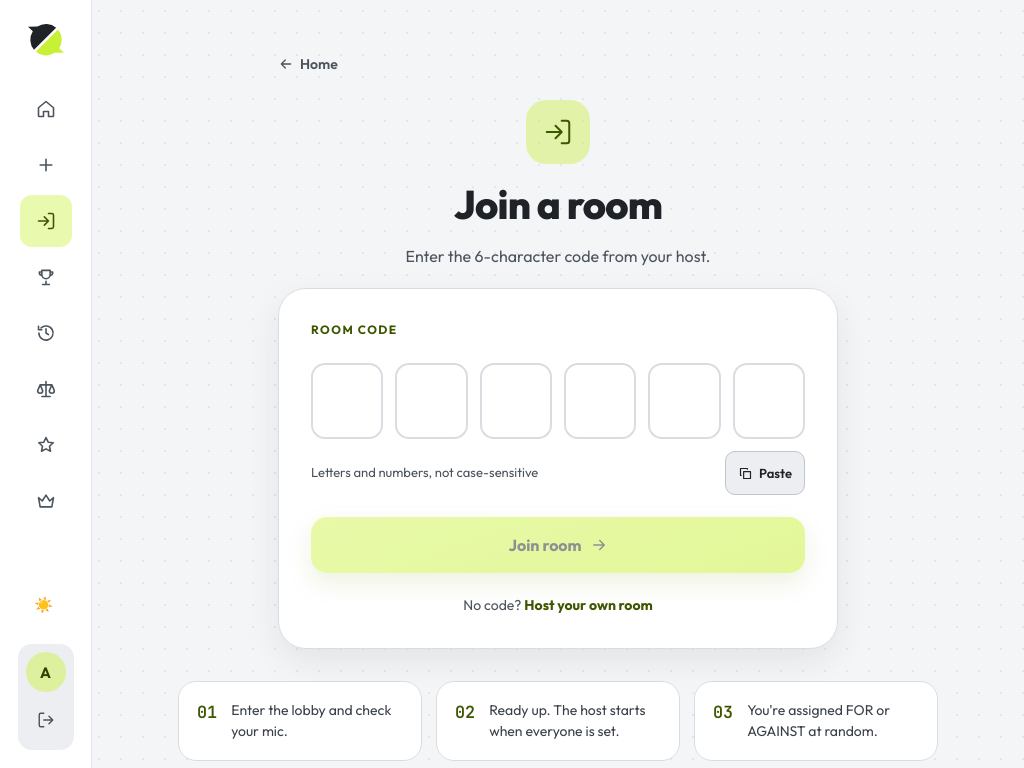
Test case: JoinRoom › step 1 — code entry › Paste button reads the clipboard into the code
Click the button "Paste" at [765, 473], box [725, 451, 805, 495]
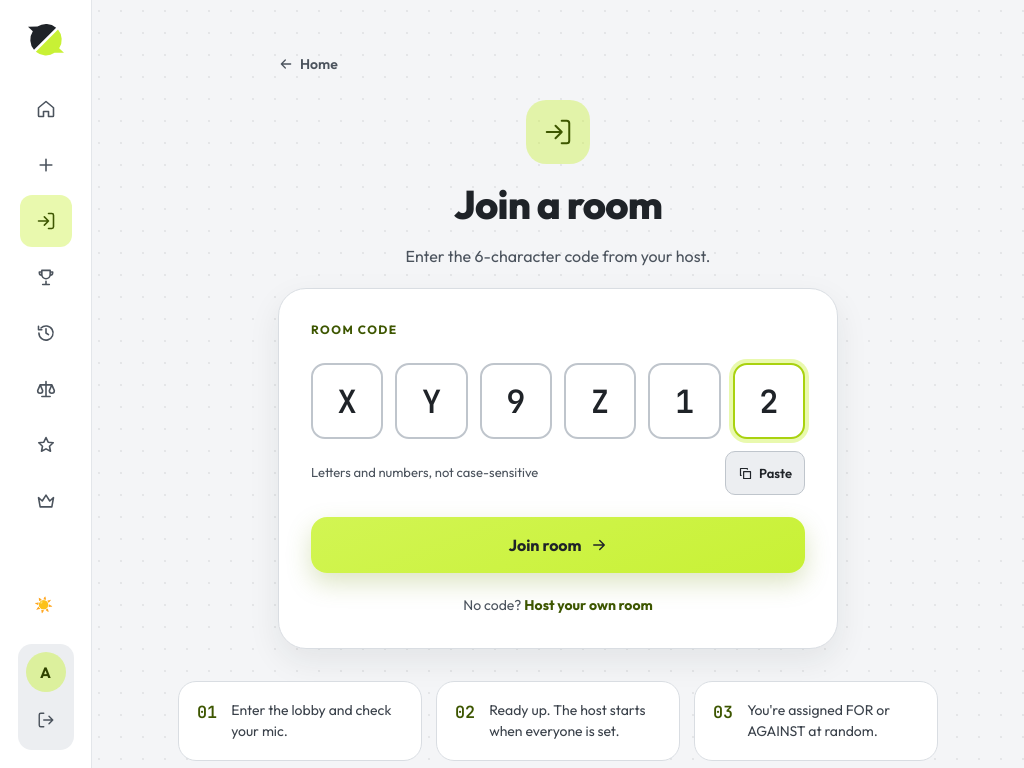
Check: the label labelled "Room code" holds "XY9Z12", box [311, 322, 398, 337]
Check: the button "Join room" is enabled, box [311, 517, 805, 573]
